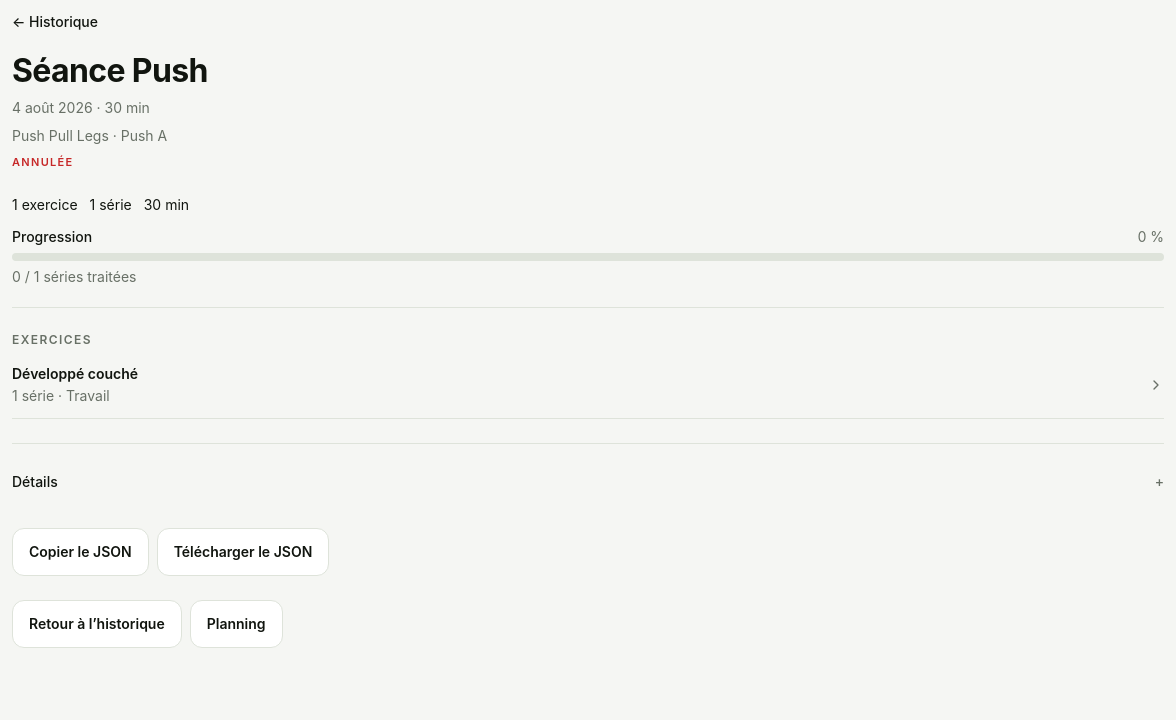
Test: WorkoutSessionDetailPage historique › affiche une séance annulée avec motif
The width and height of the screenshot is (1176, 720).
Expected: the text "Annulée" is shown, x1=12 y1=155 x2=74 y2=169
Click the button "Détails +" at (35, 481), box x1=12 y1=460 x2=1164 y2=504
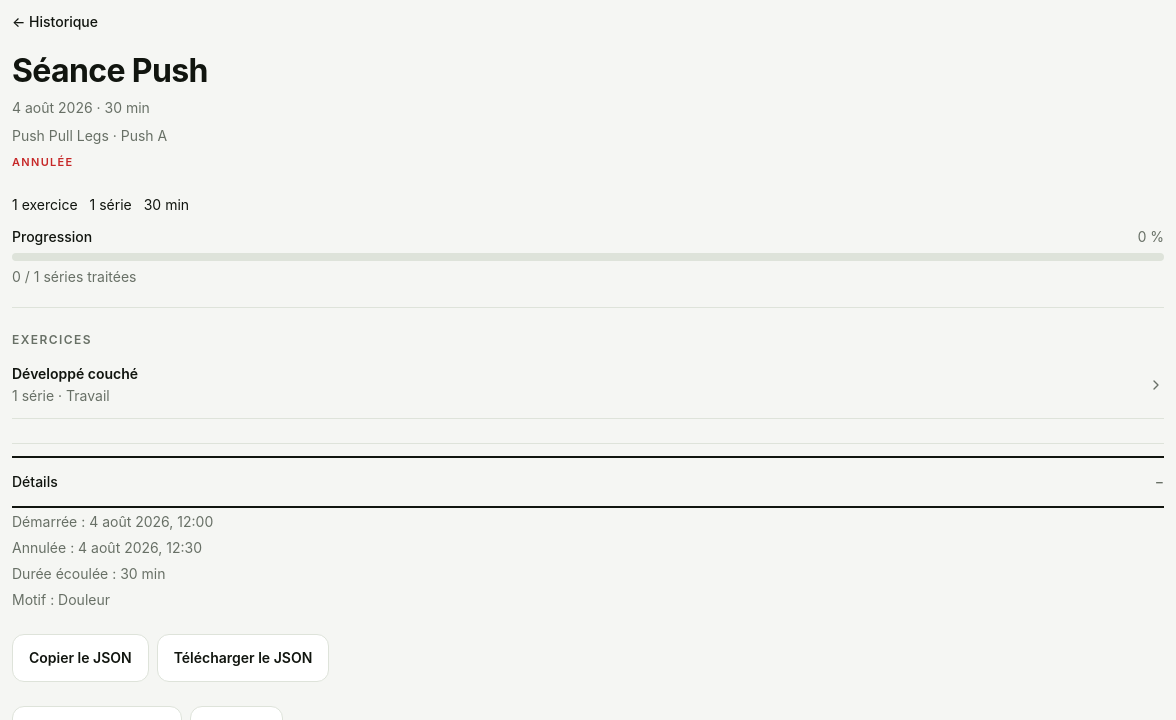
Expected: the text "Douleur" is shown, x1=58 y1=591 x2=110 y2=608
